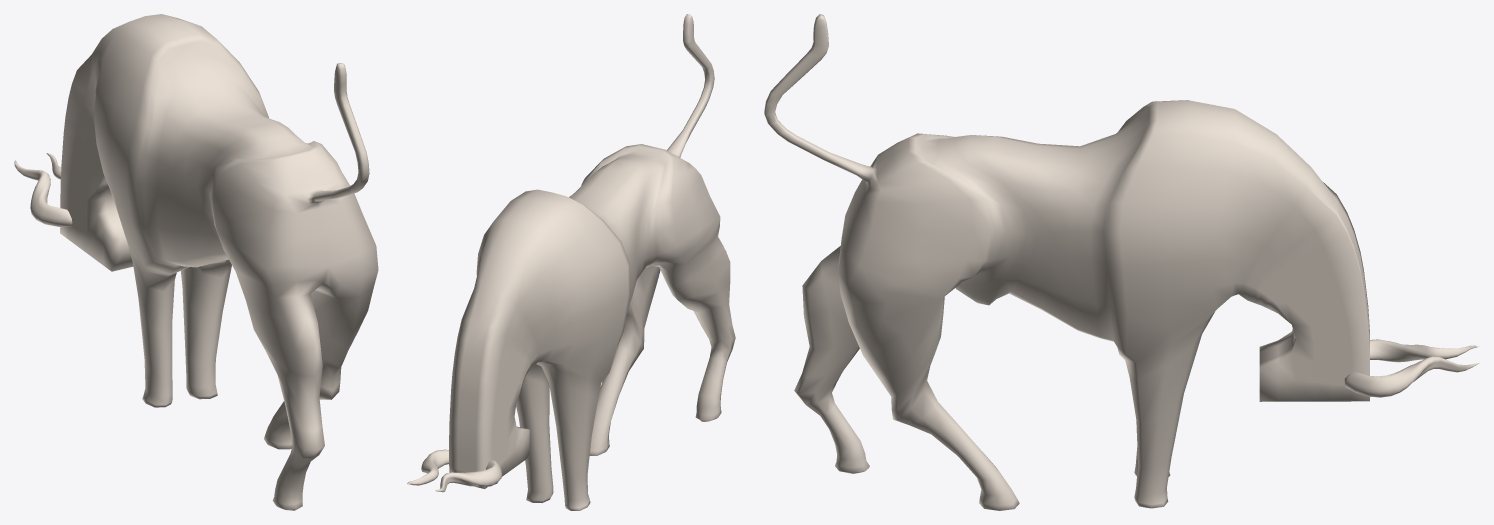
File: Bullstatue.fbx
3 views of the same model, side by side, from view 1: azimuth 30°, elevation 25°; view 2: azimuth 150°, elevation 25°; view 3: azimuth 270°, elevation 25° (orthographic). The views are drawn at different scales.
Parts seen in each view (by area): view 1: BullSculpture1; view 2: BullSculpture1; view 3: BullSculpture1.
Part boxes in pixels (<box>): BullSculpture1: <box>14,14,378,510</box>; BullSculpture1: <box>407,14,735,510</box>; BullSculpture1: <box>764,14,1479,510</box>.
Size of the model in its own units: 1.12 by 3.39 by 4.59.
